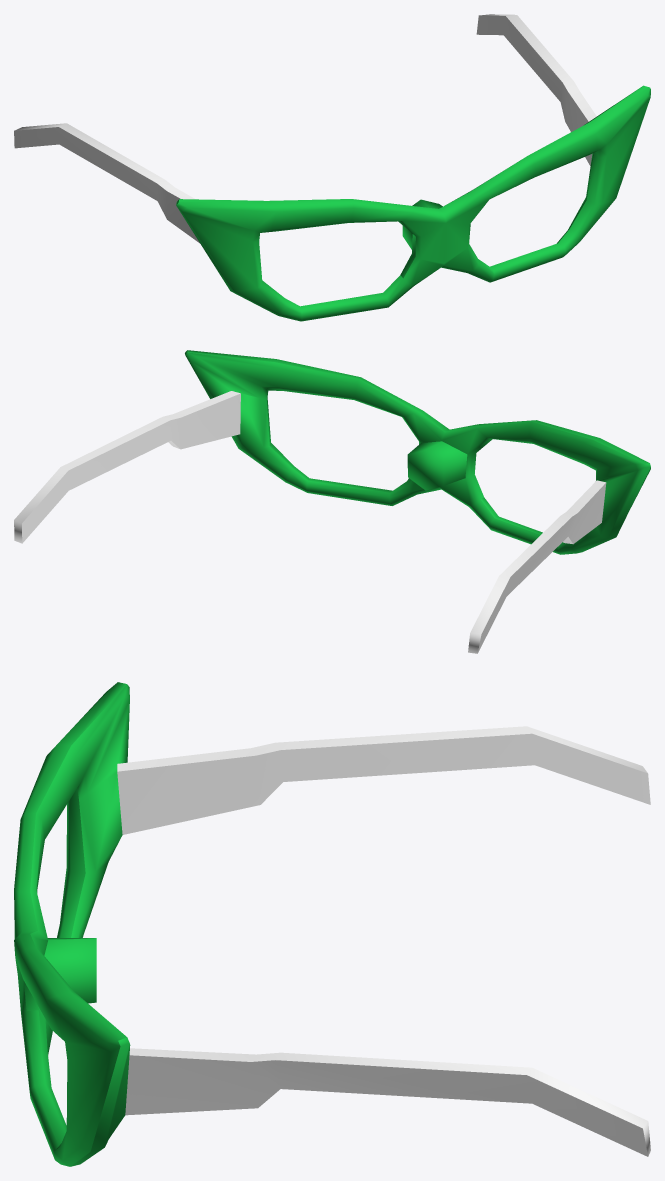
The model's file is B_Q3_F_Acc_5007.DAE.
3 renders of one model, top to bottom at view 1: azimuth 30°, elevation 25°; view 2: azimuth 150°, elevation 25°; view 3: azimuth 270°, elevation 25°, orthographic. The views are drawn at different scales.
Parts seen in each view (by area): view 1: B_Q3_F_Acc_5007; view 2: B_Q3_F_Acc_5007; view 3: B_Q3_F_Acc_5007.
Boxes of the visible parts, x1,y1,x2,y2 form: B_Q3_F_Acc_5007: (14,14,650,321); B_Q3_F_Acc_5007: (14,350,650,653); B_Q3_F_Acc_5007: (14,682,650,1166).
Bounding box in the file's own units: 21.3 × 15.63 × 5.56.
